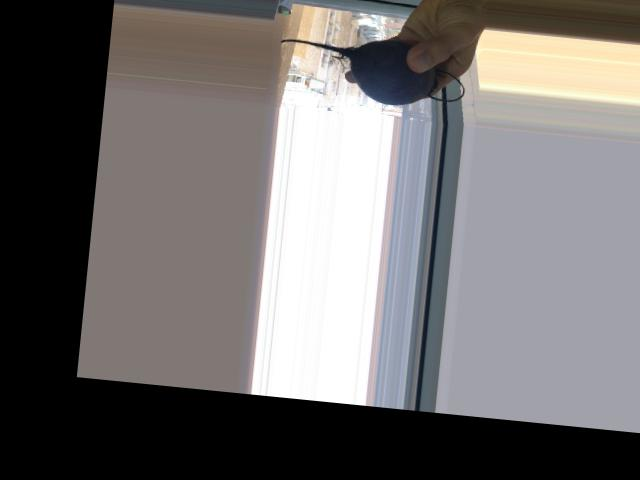beet: (274, 29, 467, 111)
